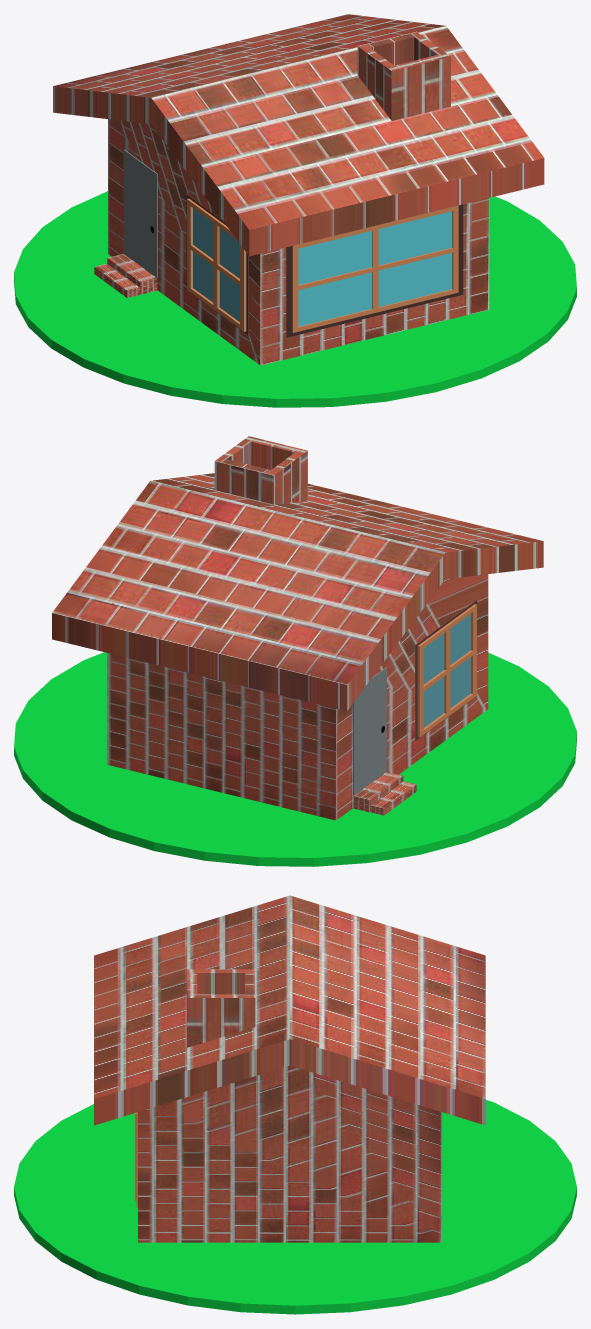
File: renewal_house.fbx
The picture shows the model from 3 angles, top to bottom: view 1: azimuth 30°, elevation 25°; view 2: azimuth 150°, elevation 25°; view 3: azimuth 270°, elevation 25°; orthographic projection.
Parts seen in each view (by area): view 1: Cube.001, Circle, Cube, Cube.007, Cube.010, Cube.003, Cube.002, Cube.004, Cube.009, Cube.006; view 2: Cube.001, Circle, Cube, Cube.010, Cube.003, Cube.004, Cube.009, Cube.006; view 3: Cube.001, Circle, Cube, Cube.003.
Boxes of the visible parts, x1,y1,x2,y2 form: Cube.001: (53, 14, 544, 256); Circle: (14, 191, 576, 407); Cube: (94, 198, 489, 365); Cube.007: (298, 211, 452, 326); Cube.010: (108, 119, 260, 364); Cube.003: (286, 31, 450, 337); Cube.002: (286, 204, 463, 337); Cube.004: (123, 149, 246, 331); Cube.009: (193, 208, 239, 321); Cube.006: (186, 194, 248, 335); Cube.001: (52, 473, 543, 711); Circle: (14, 652, 576, 866); Cube: (107, 653, 416, 820); Cube.010: (336, 574, 488, 820); Cube.003: (214, 436, 307, 504); Cube.004: (353, 667, 386, 795); Cube.009: (423, 614, 470, 727); Cube.006: (415, 600, 476, 741); Cube.001: (94, 895, 485, 1125); Circle: (14, 1100, 576, 1314); Cube: (138, 1065, 441, 1242); Cube.003: (187, 969, 255, 1047).
Size of the model in its own units: 469 by 227 by 469.
